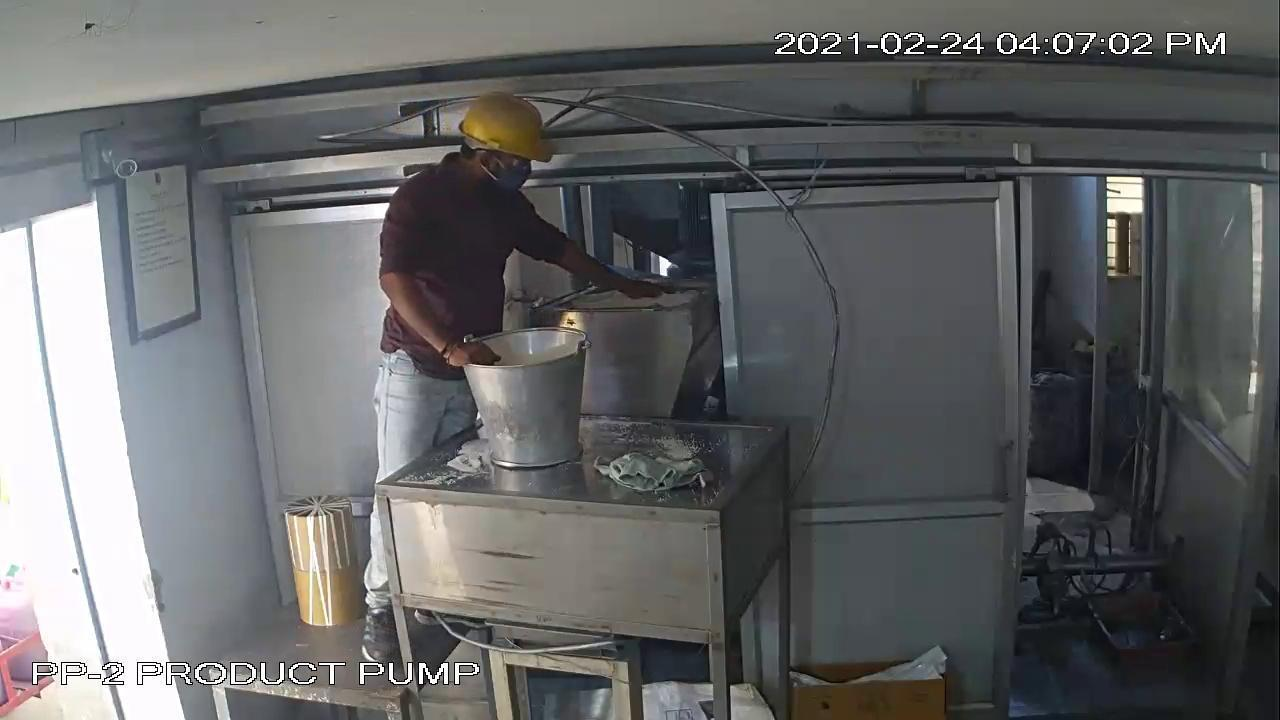helmet: (453, 78, 564, 175)
